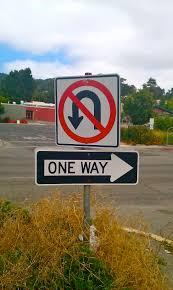no_u_turn: (57, 78, 115, 142)
